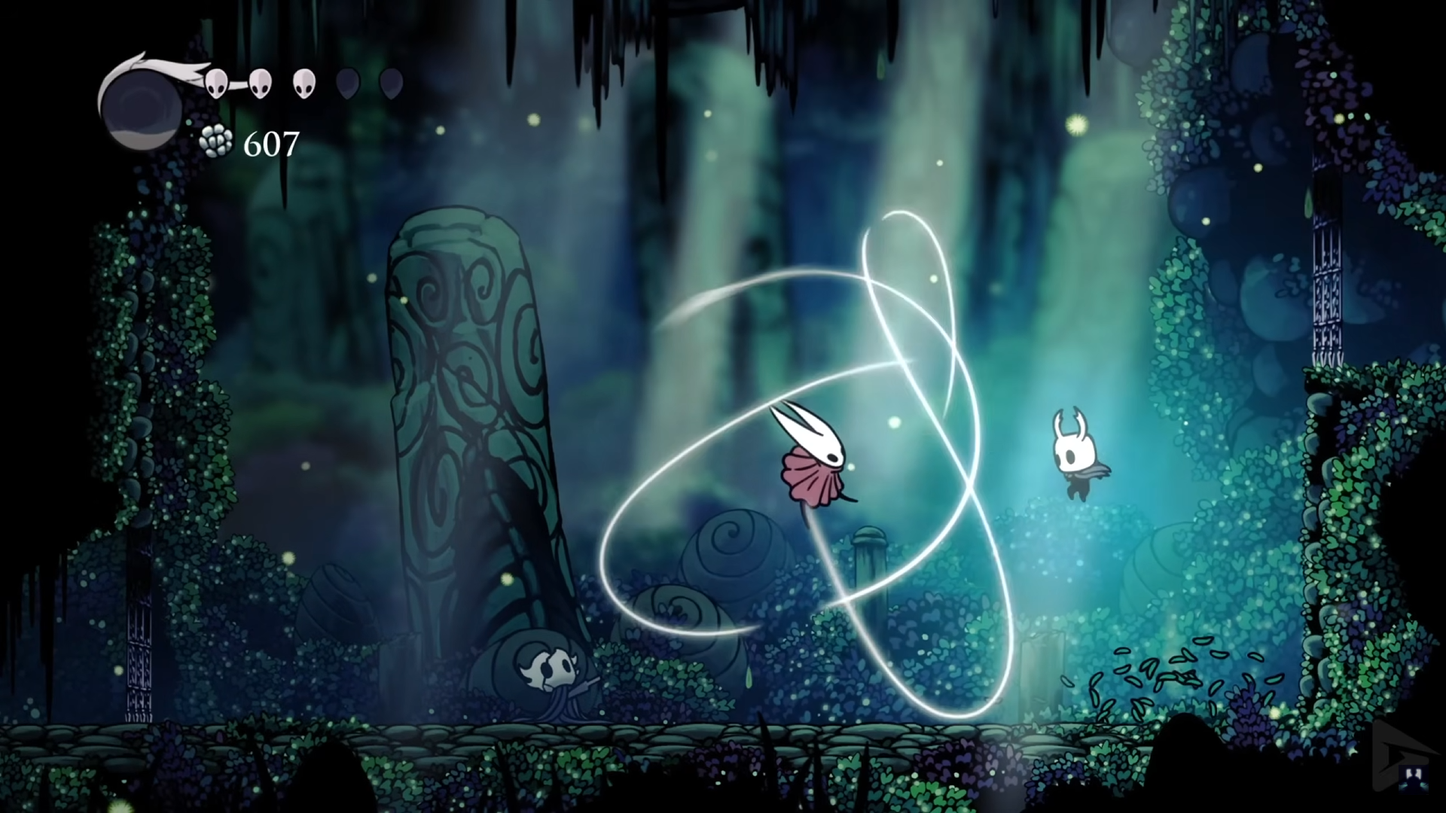HK: (1042, 401, 1113, 503)
